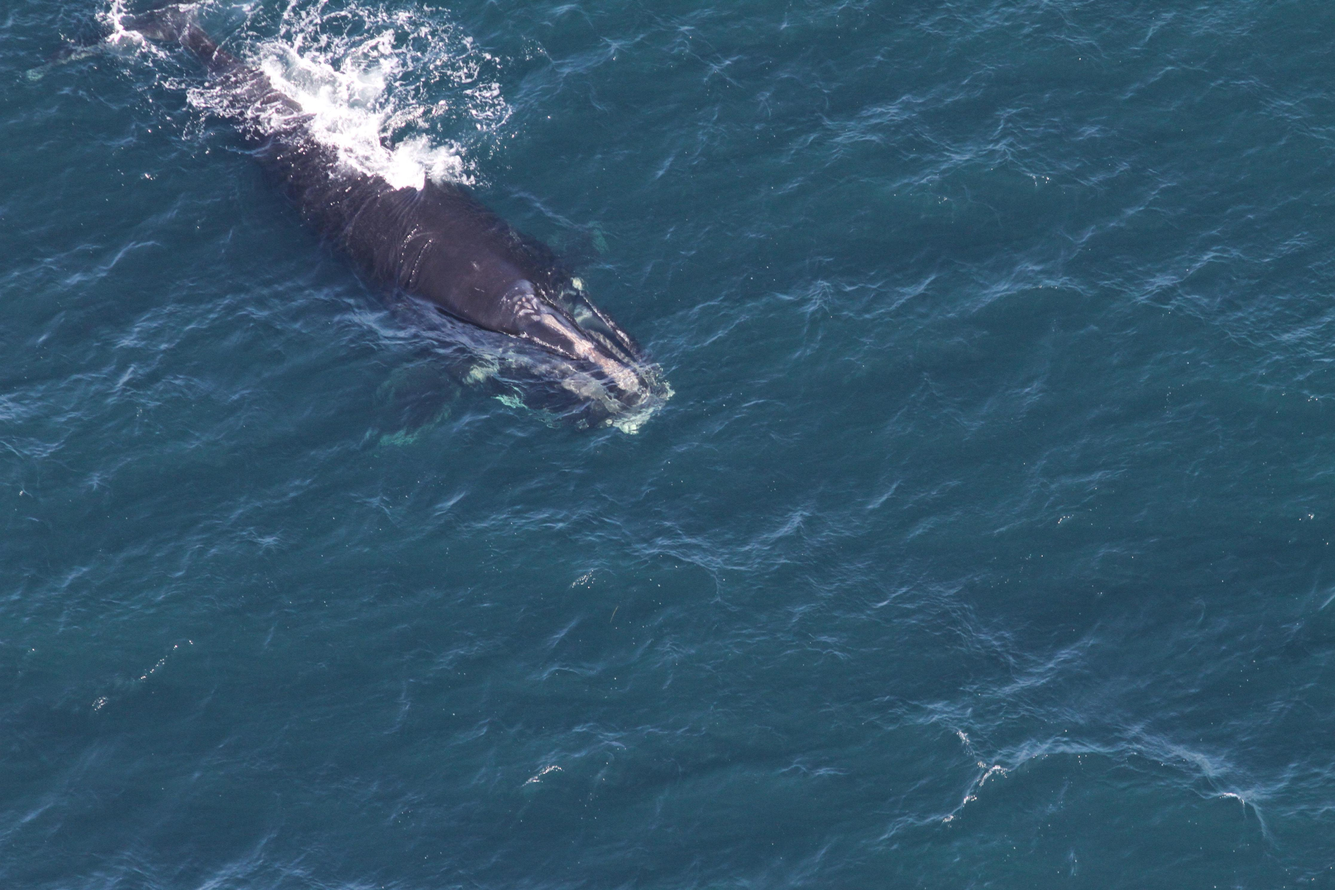whale: (7, 2, 679, 454)
